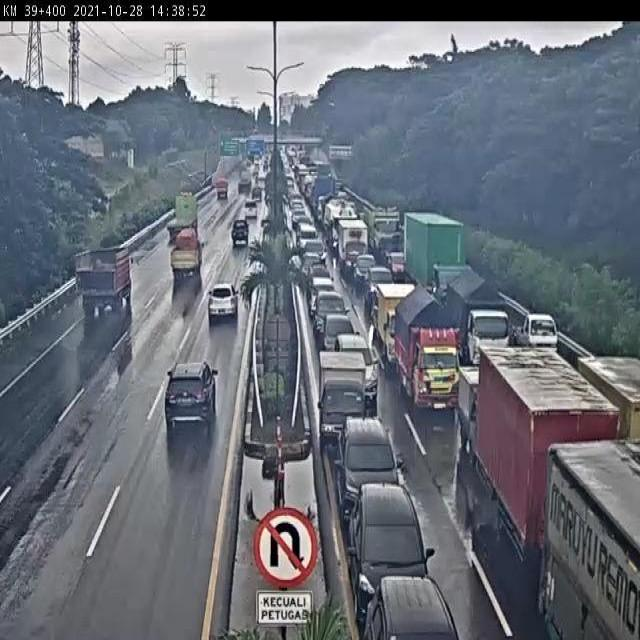big truck: (479, 345, 626, 595), (405, 212, 465, 304), (162, 192, 199, 247), (235, 171, 251, 196)
car: (349, 486, 436, 618), (335, 418, 399, 530), (363, 577, 460, 640), (165, 359, 219, 429), (335, 336, 380, 403), (319, 315, 360, 369), (513, 315, 557, 361), (312, 290, 350, 342), (206, 283, 241, 320), (367, 265, 395, 308), (309, 276, 334, 316), (355, 255, 376, 288), (240, 201, 257, 224), (251, 188, 263, 203)
small bus: (255, 179, 269, 197)
small truck: (393, 287, 462, 416), (438, 263, 512, 373), (458, 365, 521, 468), (317, 348, 369, 449), (75, 245, 136, 316), (377, 283, 420, 369), (168, 230, 204, 282), (339, 220, 369, 276), (230, 219, 250, 248), (211, 180, 227, 203)
